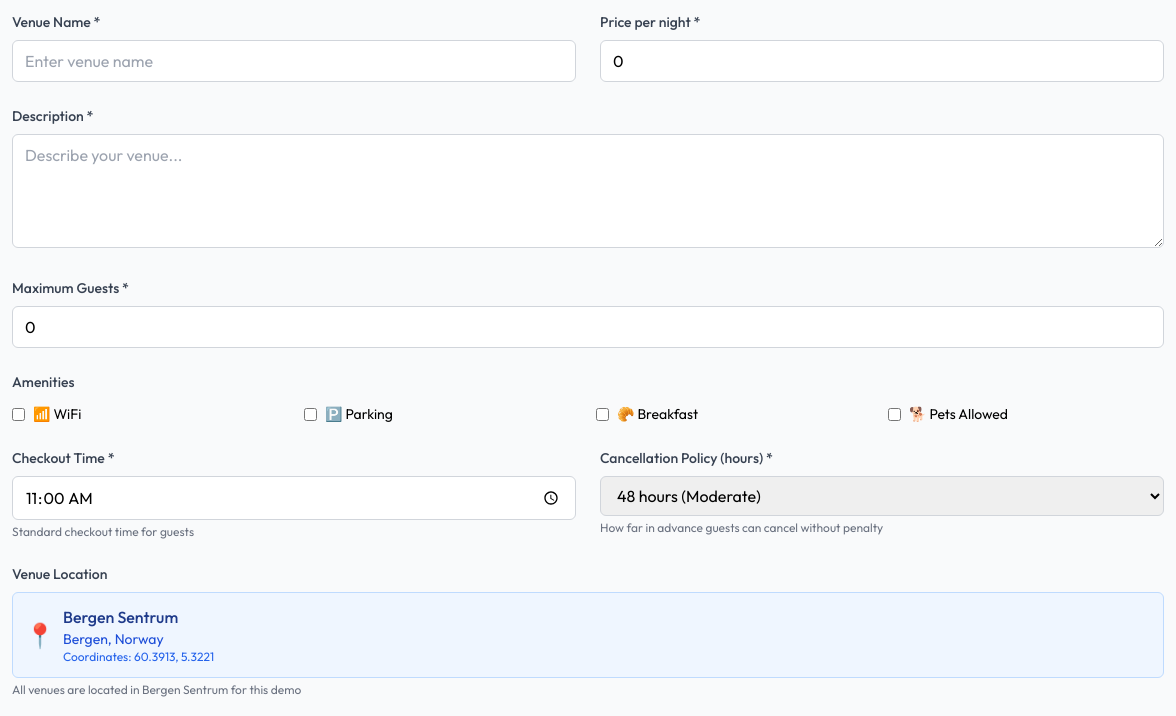
VenueForm › Create Mode › shows policy warning when changing default values
Replace the text in the time field labelled "Checkout Time *" with "12:00" at (294, 498), box [12,476,576,520]
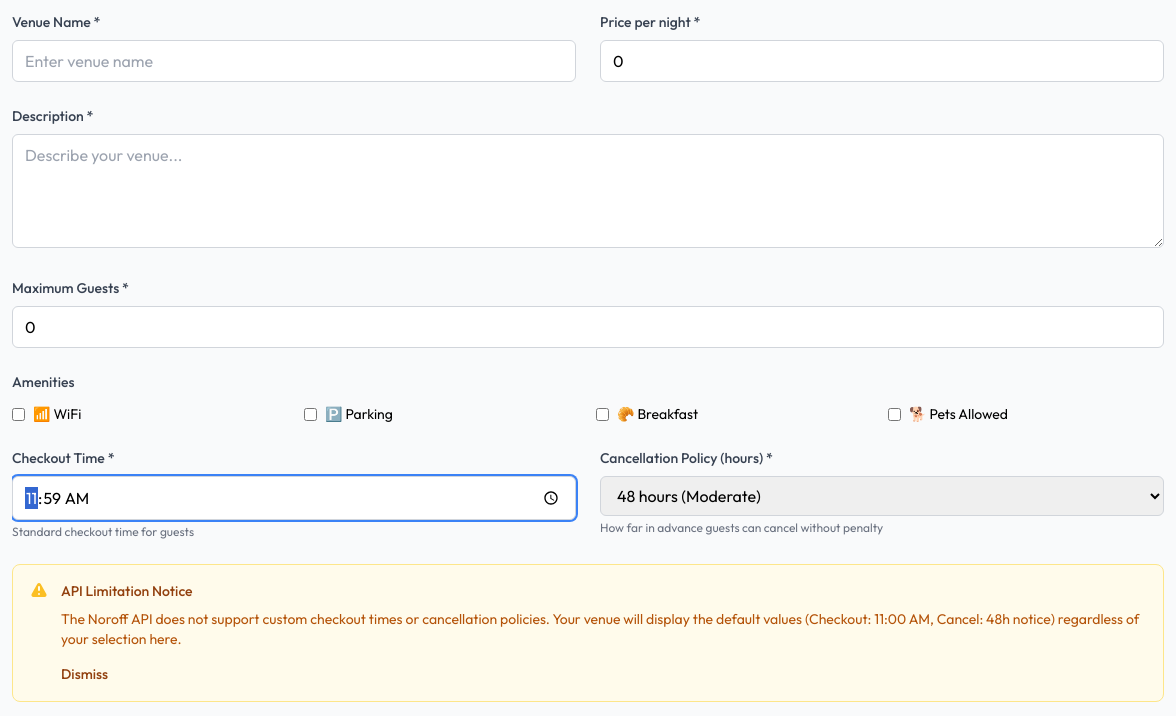
Now the heading "API Limitation Notice" is shown, box [61,582,192,600]
